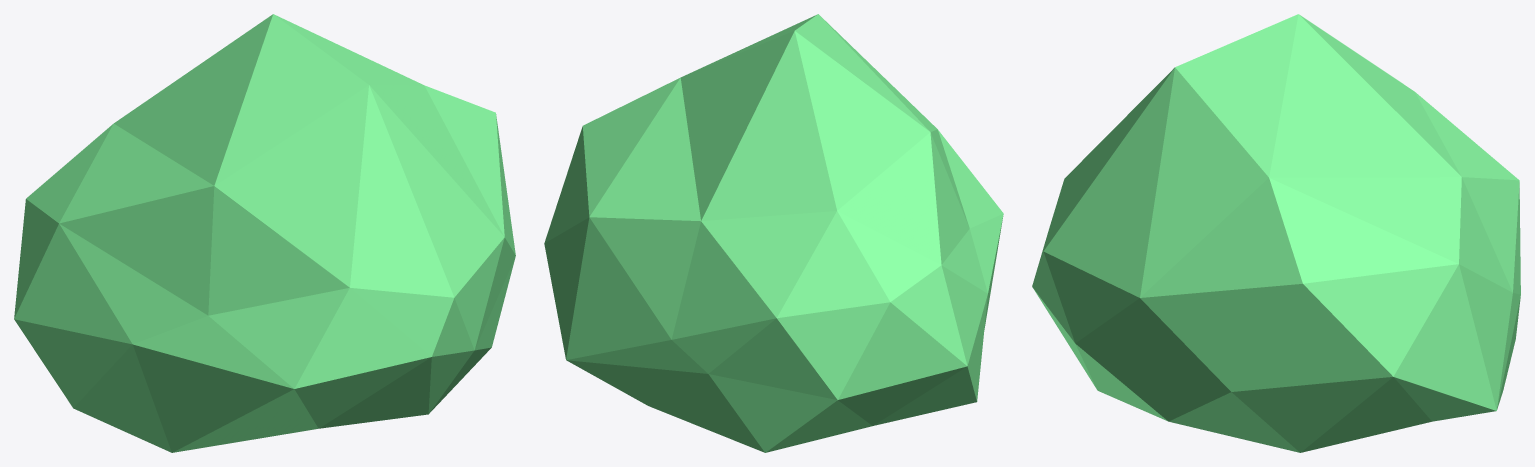
File: Grass Pile 2.fbx
3 views of the same model, side by side, from view 1: azimuth 30°, elevation 25°; view 2: azimuth 150°, elevation 25°; view 3: azimuth 270°, elevation 25° (orthographic). The views are drawn at different scales.
Parts seen in each view (by area): view 1: Icosphere.002; view 2: Icosphere.002; view 3: Icosphere.002.
Boxes of the visible parts, left/top/right/bottom form: Icosphere.002: left=14, top=14, right=515, bottom=452; Icosphere.002: left=544, top=14, right=1003, bottom=452; Icosphere.002: left=1032, top=14, right=1520, bottom=452.
Bounding box in the file's own units: 14.28 × 11.25 × 13.27.
